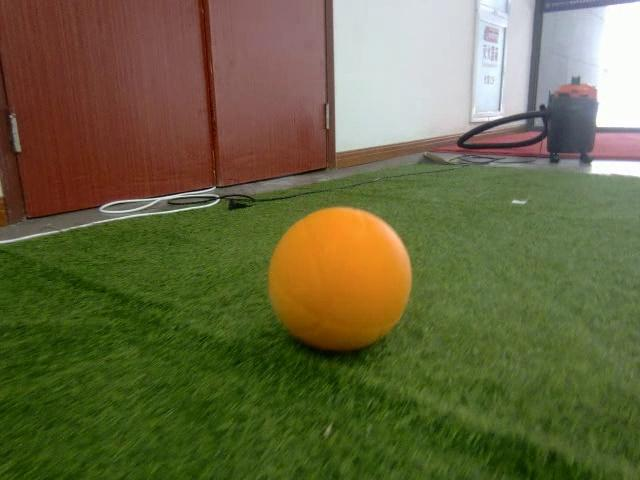orange_ball: (267, 203, 412, 354)
